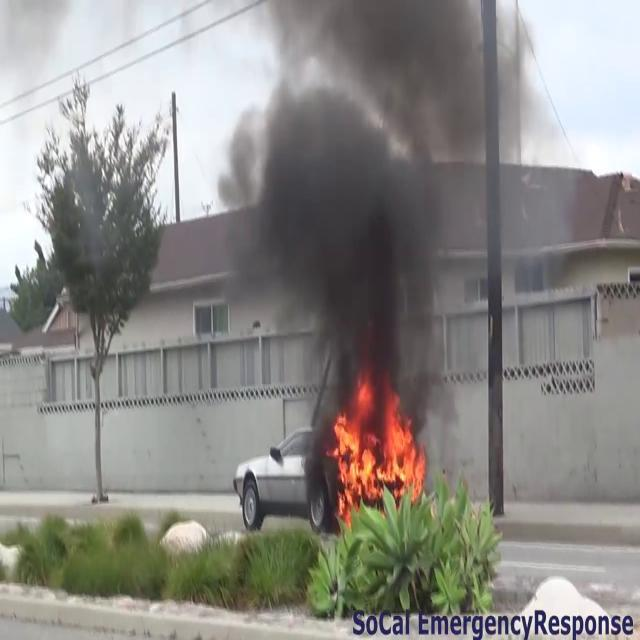Fire: (327, 380, 427, 516)
Smoke: (224, 1, 558, 394)
